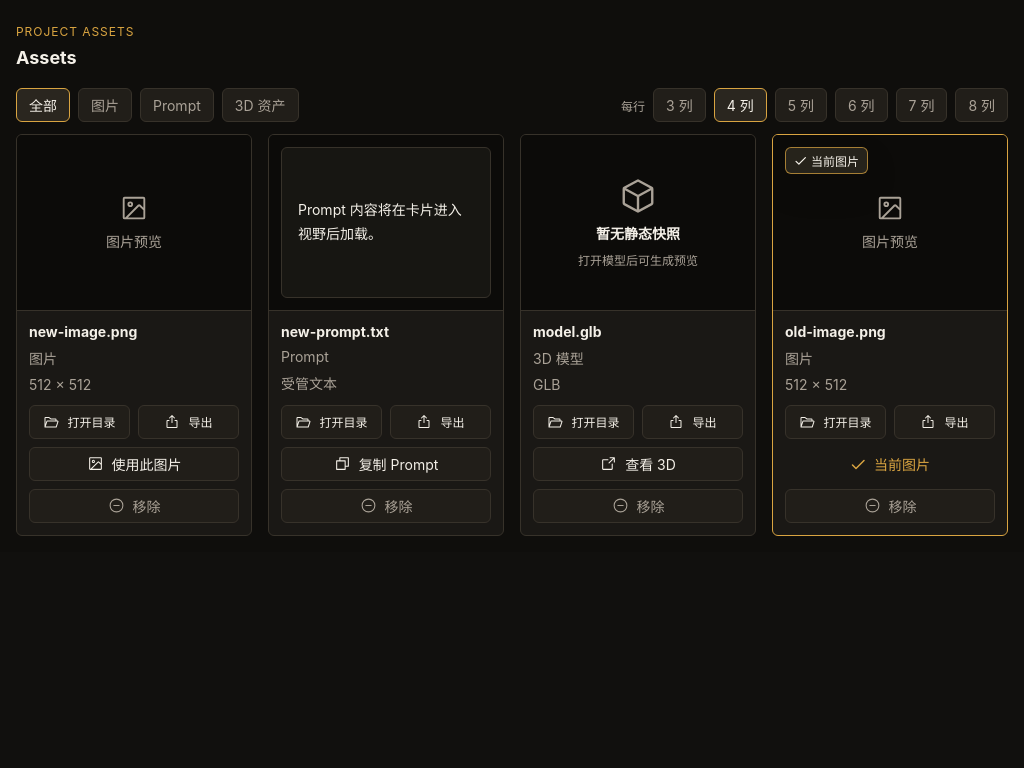
AssetBrowser › shows newest assets first and filters the library by asset type
Check: the heading "new-image.png" is shown, box [29,322,137,340]
Click the button "图片" at (105, 105), box [78,88,132,122]
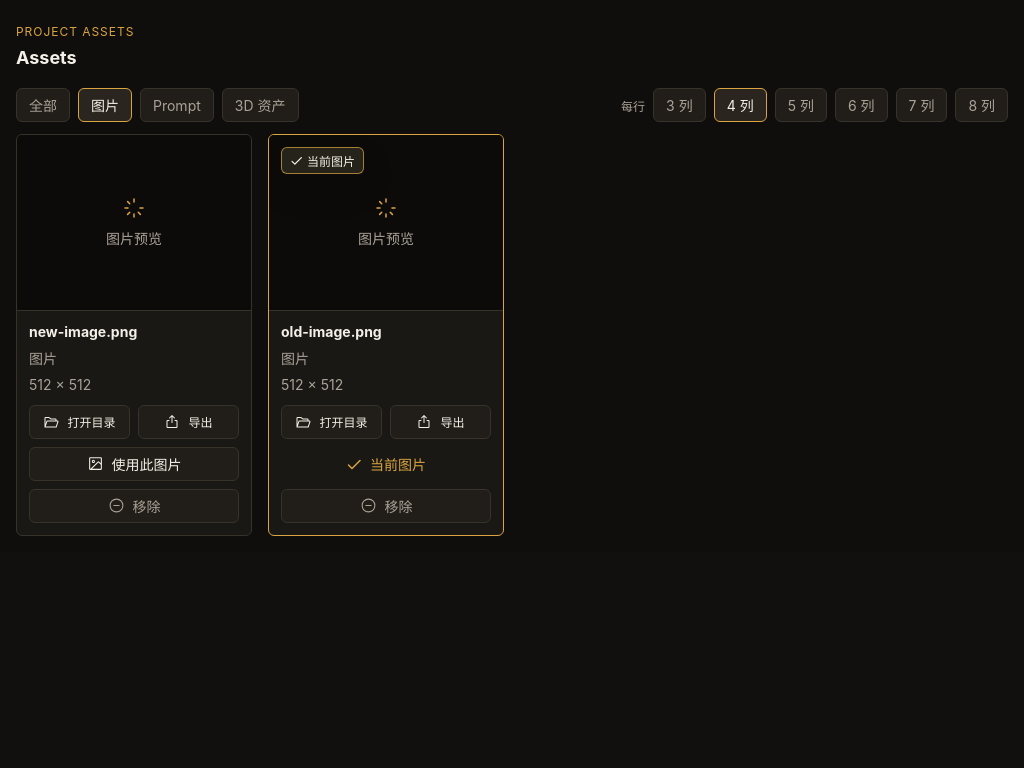
Check: the heading "new-image.png" is shown, box [29,322,137,340]
Check: the heading "new-prompt.txt" is gone
Check: the heading "model.glb" is gone
Click the button "Prompt" at (177, 105), box [140,88,214,122]
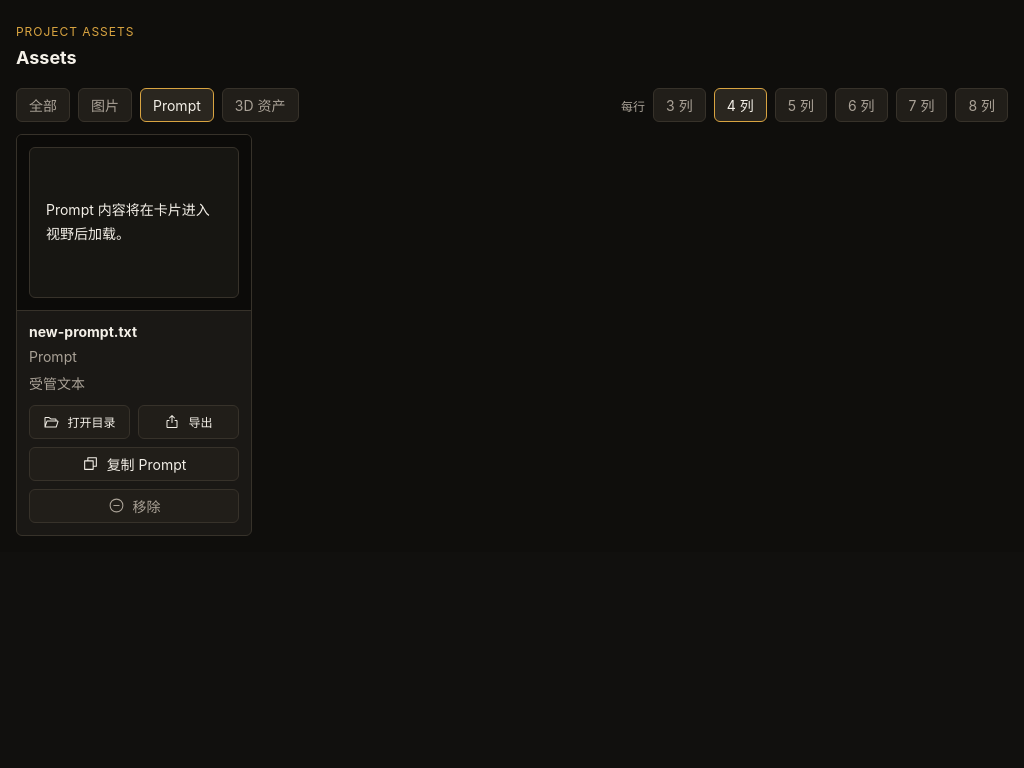
Check: the heading "new-prompt.txt" is shown, box [29,322,137,340]
Check: the heading "new-image.png" is gone
Click the button "3D 资产" at (260, 105), box [222,88,298,122]
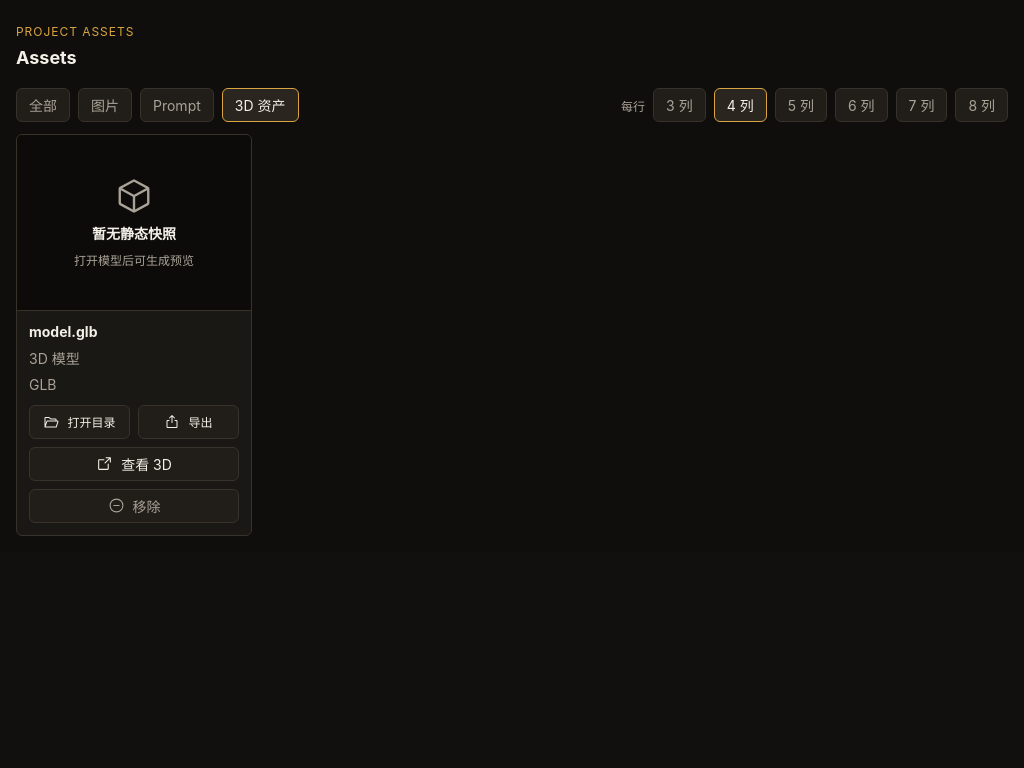
Check: the heading "model.glb" is shown, box [29,322,98,340]
Check: the heading "new-prompt.txt" is gone
